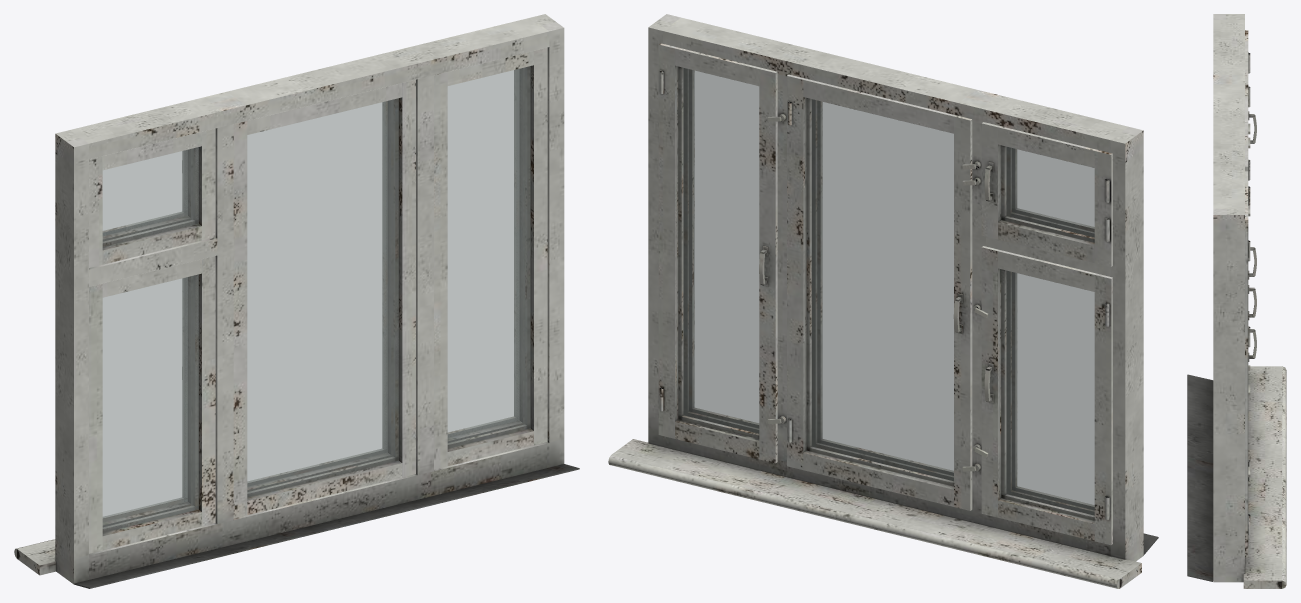
Rendered from win_3_fort_right_web.glb.
The picture shows the model from 3 angles, left to right: view 1: azimuth 30°, elevation 25°; view 2: azimuth 150°, elevation 25°; view 3: azimuth 270°, elevation 25°; orthographic projection. The views are drawn at different scales.
Visible parts, largest first — view 1: Win3FortRight_Body, Glass_Sash_C_out, Glass_Sash_C_in, Glass_Sash_L_out, Sash_C_Mesh, Glass_Sash_L_in, Glass_Sash_R_out, Sash_L_Mesh, Glass_Sash_R_in, Sash_R_Mesh, Fort_R_Mesh, Glass_Fort_R_out (+1 smaller); view 2: Win3FortRight_Body, Glass_Sash_C_in, Glass_Sash_C_out, Sash_C_Mesh, Glass_Sash_L_in, Sash_L_Mesh, Glass_Sash_L_out, Glass_Sash_R_in, Sash_R_Mesh, Glass_Sash_R_out, Fort_R_Mesh, Glass_Fort_R_in (+1 smaller); view 3: Win3FortRight_Body, Sash_L_Mesh, Sash_C_Mesh, Fort_R_Mesh, Sash_R_Mesh.
Boxes of the visible parts, <box> form: Win3FortRight_Body: <box>14,14,579,588</box>; Glass_Sash_C_out: <box>247,99,398,496</box>; Glass_Sash_C_in: <box>247,102,387,482</box>; Glass_Sash_L_out: <box>448,66,530,448</box>; Sash_C_Mesh: <box>233,79,415,518</box>; Glass_Sash_L_in: <box>448,69,519,437</box>; Glass_Sash_R_out: <box>103,275,198,532</box>; Sash_L_Mesh: <box>434,47,547,469</box>; Glass_Sash_R_in: <box>103,277,187,521</box>; Sash_R_Mesh: <box>89,256,215,553</box>; Fort_R_Mesh: <box>89,128,215,267</box>; Glass_Fort_R_out: <box>103,147,198,246</box>; Win3FortRight_Body: <box>608,14,1158,588</box>; Glass_Sash_C_in: <box>812,99,953,480</box>; Glass_Sash_C_out: <box>822,102,953,470</box>; Sash_C_Mesh: <box>787,74,972,510</box>; Glass_Sash_L_in: <box>683,68,758,433</box>; Sash_L_Mesh: <box>658,43,777,463</box>; Glass_Sash_L_out: <box>694,71,758,422</box>; Glass_Sash_R_in: <box>1006,271,1094,515</box>; Sash_R_Mesh: <box>981,246,1112,545</box>; Glass_Sash_R_out: <box>1017,273,1094,504</box>; Fort_R_Mesh: <box>981,122,1112,266</box>; Glass_Fort_R_in: <box>1006,147,1094,236</box>; Win3FortRight_Body: <box>1187,14,1286,588</box>; Sash_L_Mesh: <box>1245,171,1256,557</box>; Sash_C_Mesh: <box>1245,89,1256,480</box>; Fort_R_Mesh: <box>1245,30,1256,143</box>; Sash_R_Mesh: <box>1248,159,1256,347</box>.
Bounding box in the file's own units: 1.92 × 1.54 × 0.3765.
2 materials, 1 textured.
